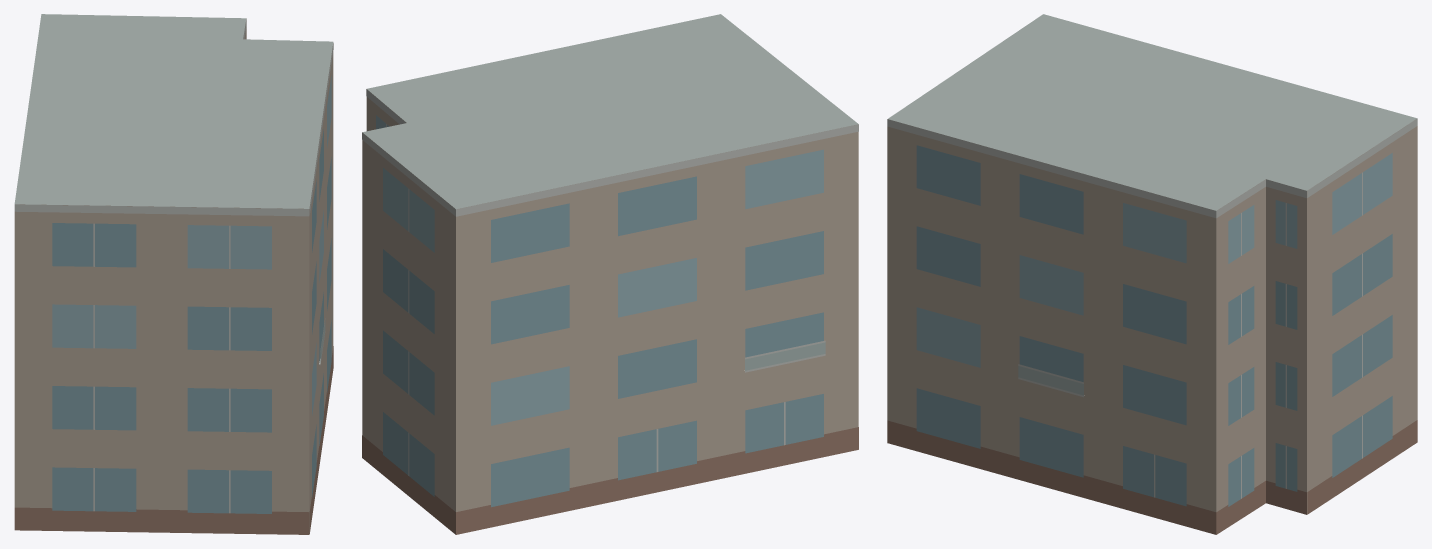
The model's file is survey-upis-32871275.glb.
The picture shows the model from 3 angles, left to right: view 1: azimuth 30°, elevation 25°; view 2: azimuth 150°, elevation 25°; view 3: azimuth 270°, elevation 25°; orthographic projection.
Visible parts, largest first — view 1: survey-upis-32871275.tmp; view 2: survey-upis-32871275.tmp; view 3: survey-upis-32871275.tmp.
Part boxes in pixels (x1,y1,x2,y2): survey-upis-32871275.tmp: (14,14,333,534); survey-upis-32871275.tmp: (362,14,858,534); survey-upis-32871275.tmp: (887,14,1417,534).
Size of the model in its own units: 13.82 by 10.6 by 15.73.
